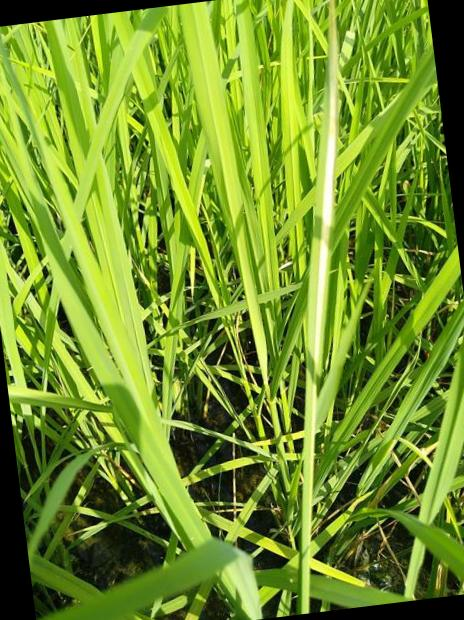Leaf Blight: (307, 0, 339, 391)
